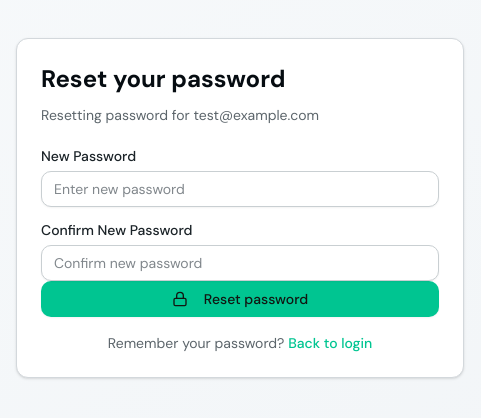
ResetPassword Page › Password Validation › shows error when password has no number
In the password field with placeholder "Enter new password": (240, 189) x1=41 y1=171 x2=439 y2=207, type "Password!@#"
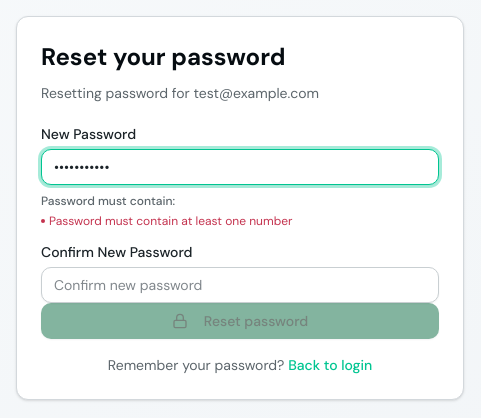
expect the list item "Password must contain at least one number" is shown: met, box x1=41 y1=213 x2=292 y2=229
